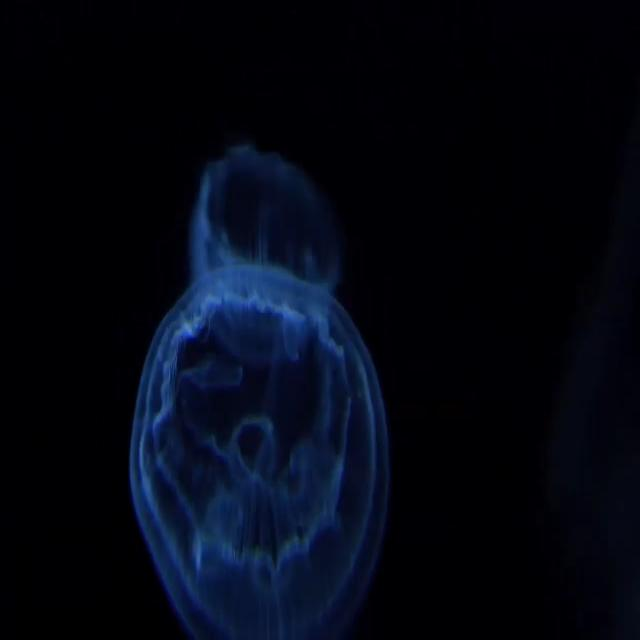Moon-jellyfish: (127, 263, 394, 639), (202, 144, 350, 297)
